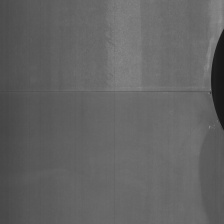welding_line: (0, 83, 210, 102), (205, 21, 224, 137)
